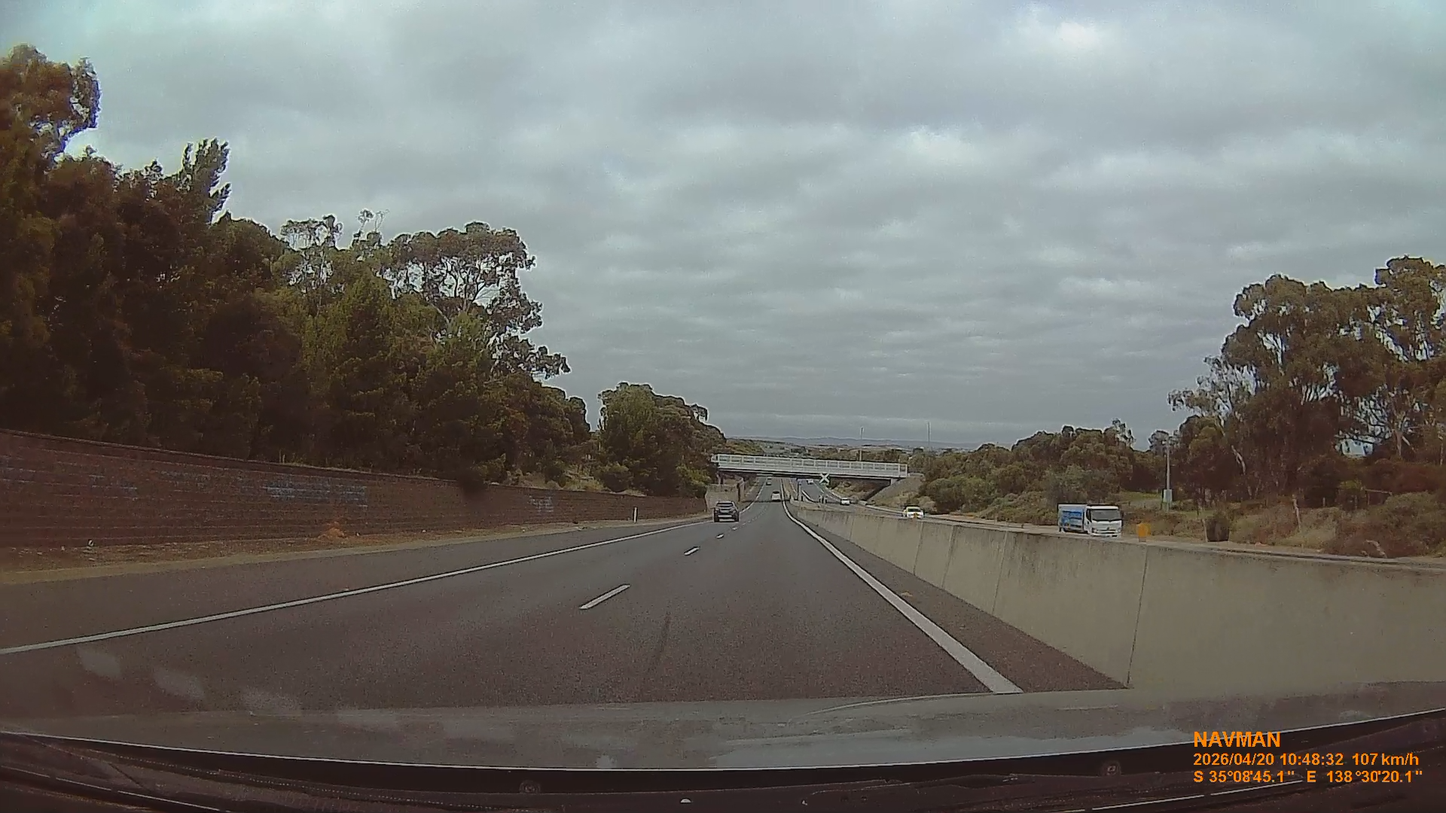road barriers: (801, 502, 1446, 691), (0, 430, 706, 570)
